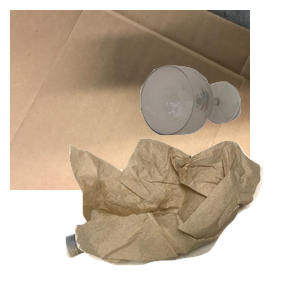cardboard: (10, 10, 250, 190)
glass: (138, 63, 300, 191)
plastic: (63, 170, 278, 300)
trash: (67, 136, 300, 300)
